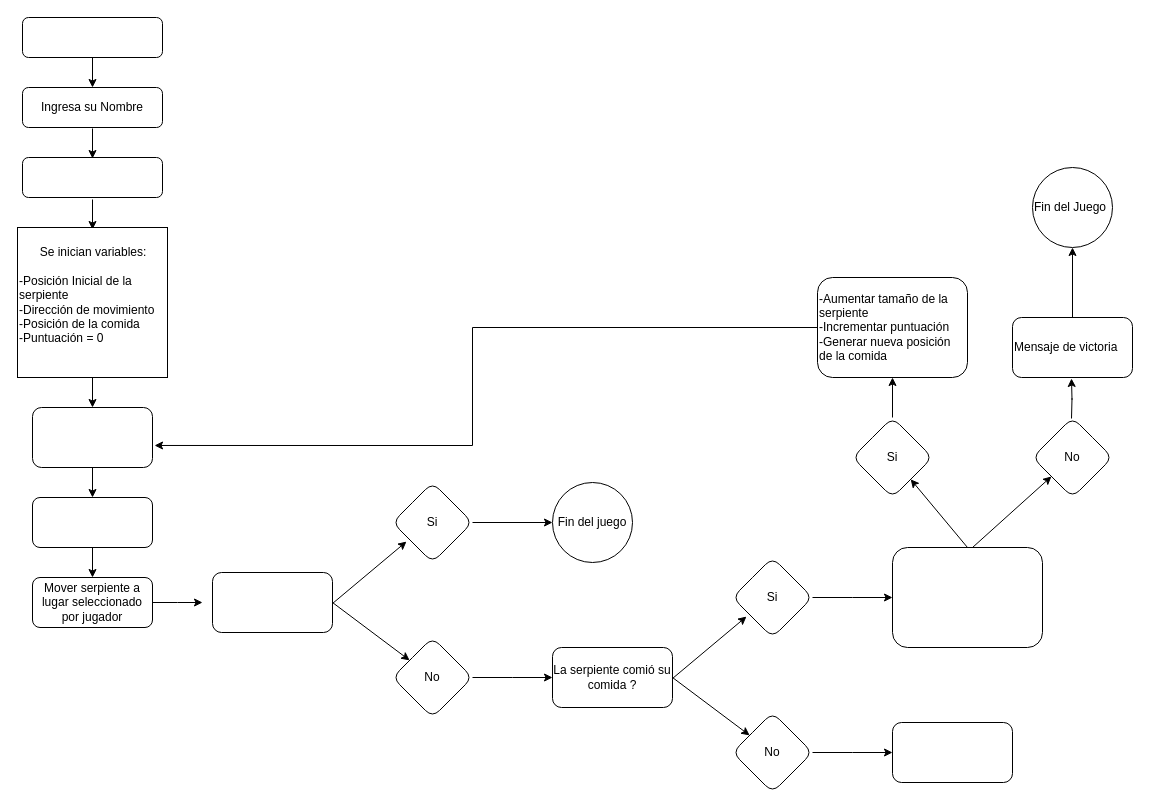
Some shapes in this 1150 by 810 pixel diagram are drawn without their labels. Each missing label, with the centre of its shape:
Actualizar dirección de la serpiente: pixel 92 522
Continuar el juego: pixel 952 752
Empieza juego a través de botón "start": pixel 92 177
Esperar movimiento de Jugador: pixel 92 437
Jugador Ingresa a interfaz de Juego: pixel 92 37
La serpiente colisionó: pixel 272 602
¿Hay espacio disponible para colocar comida?: pixel 967 597
